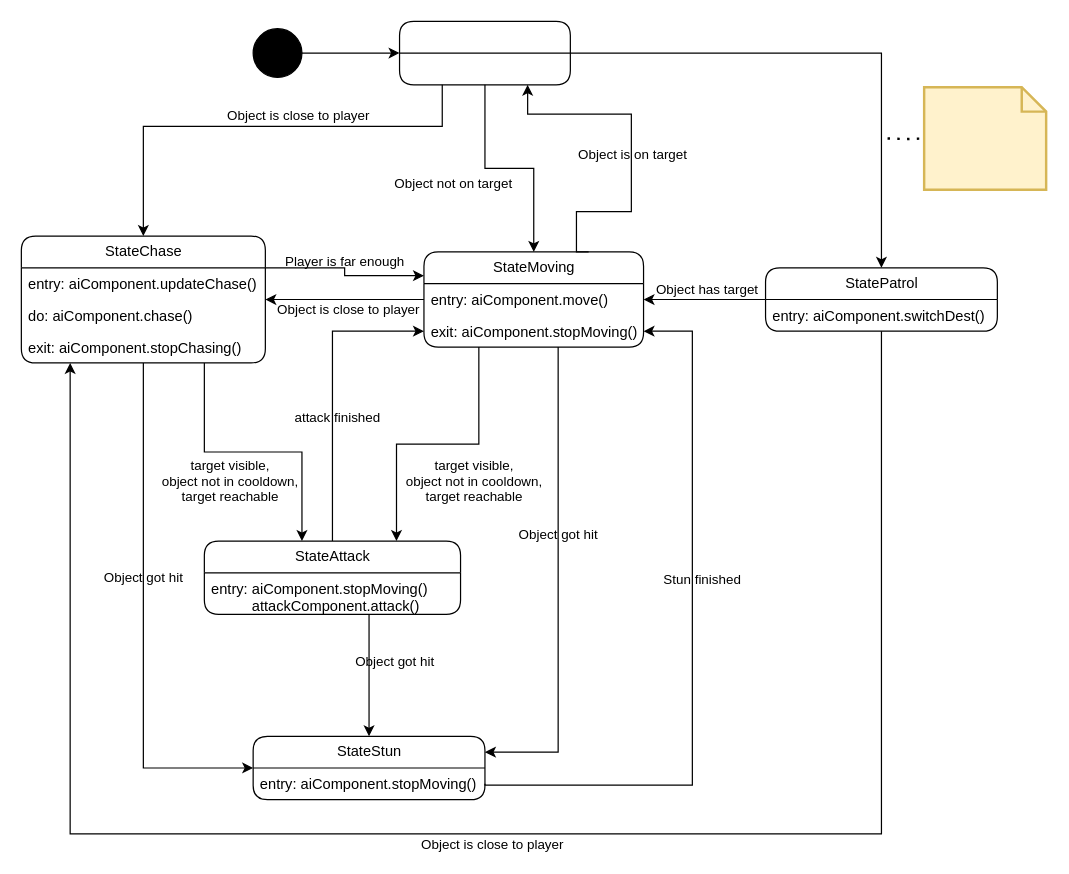
Some shapes in this 1069 by 874 pixel diagram are drawn without their labels. Here are the shapes that lost their labels. From the top down, the centre of each, then its label:
At pixel 484 52: "StateIdle".
At pixel 984 137: "Only if object is MonsterPatrol".
